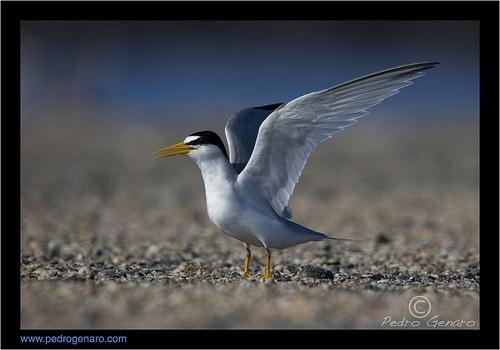bird: (148, 59, 440, 280)
